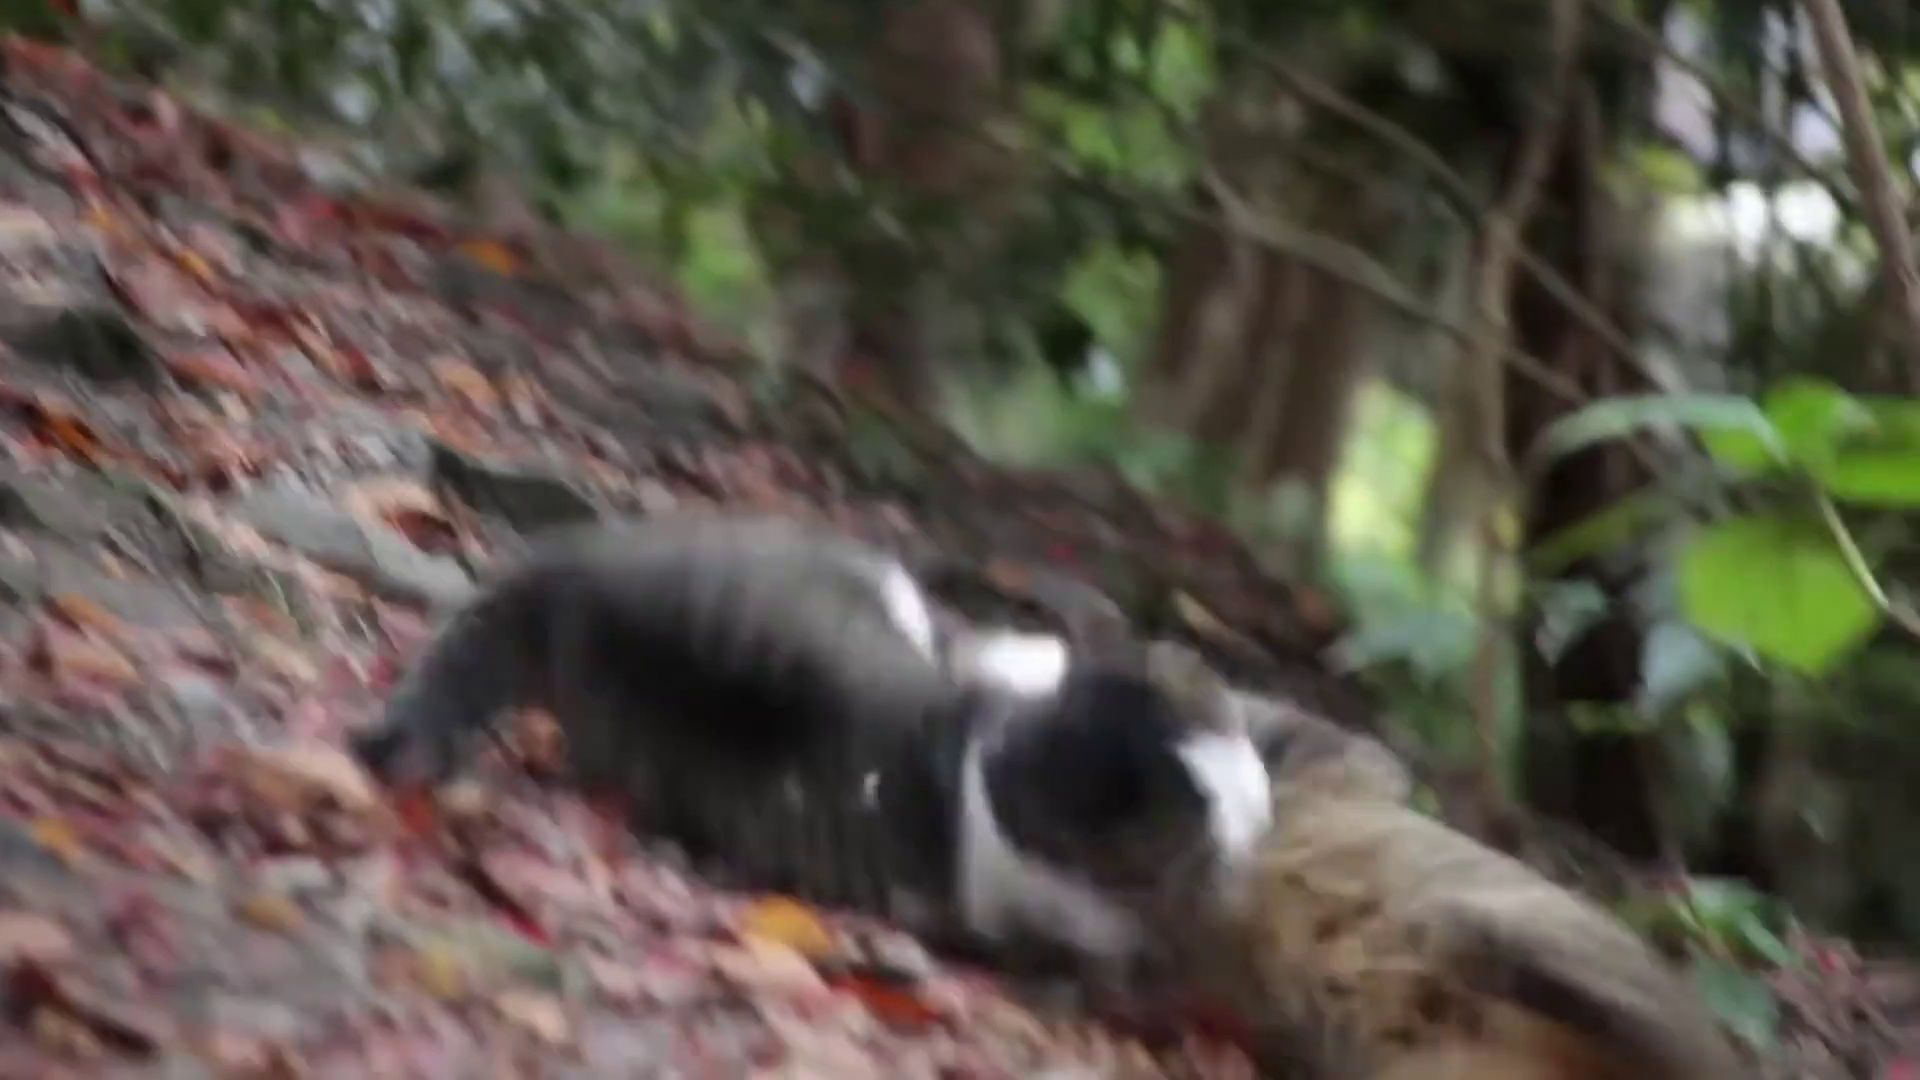black-white: (447, 518, 1273, 955)
pure black: (1134, 632, 1742, 1080)
